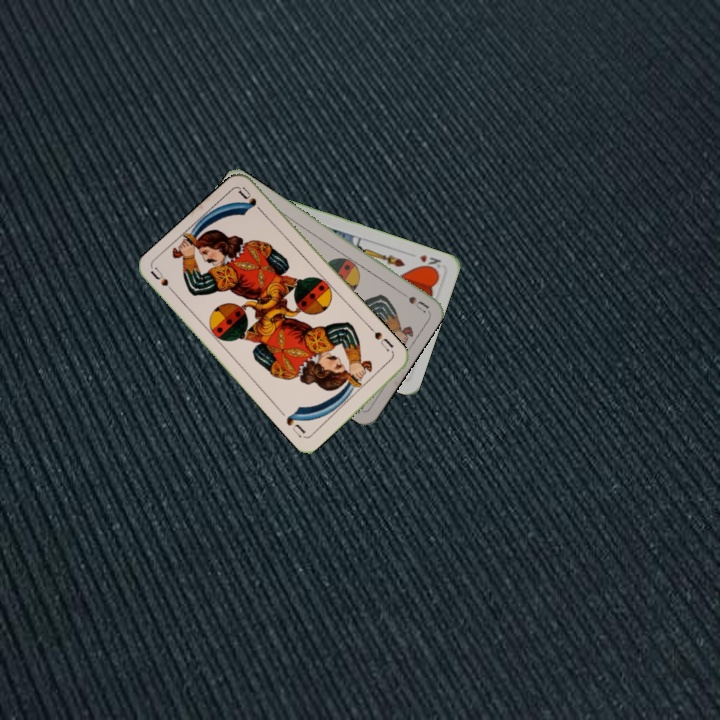HK: (416, 251, 444, 274)
SU: (147, 264, 180, 299), (370, 328, 396, 354), (404, 292, 431, 316)
